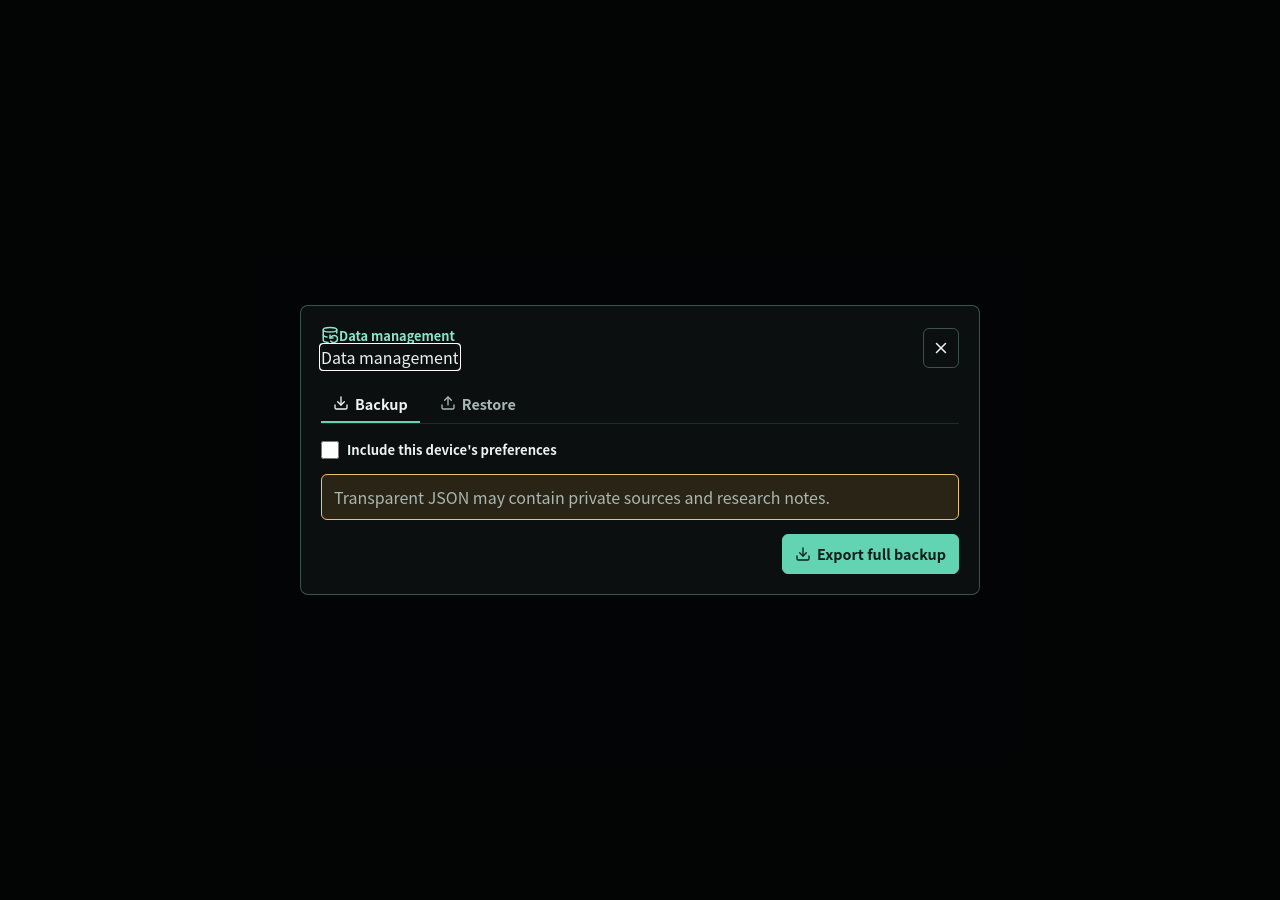
Test: DataManagementDialog interactions › uses a safe endpoint fallback when an export response is not JSON
Click the button "Export full backup": (870, 554) [782, 534, 959, 574]
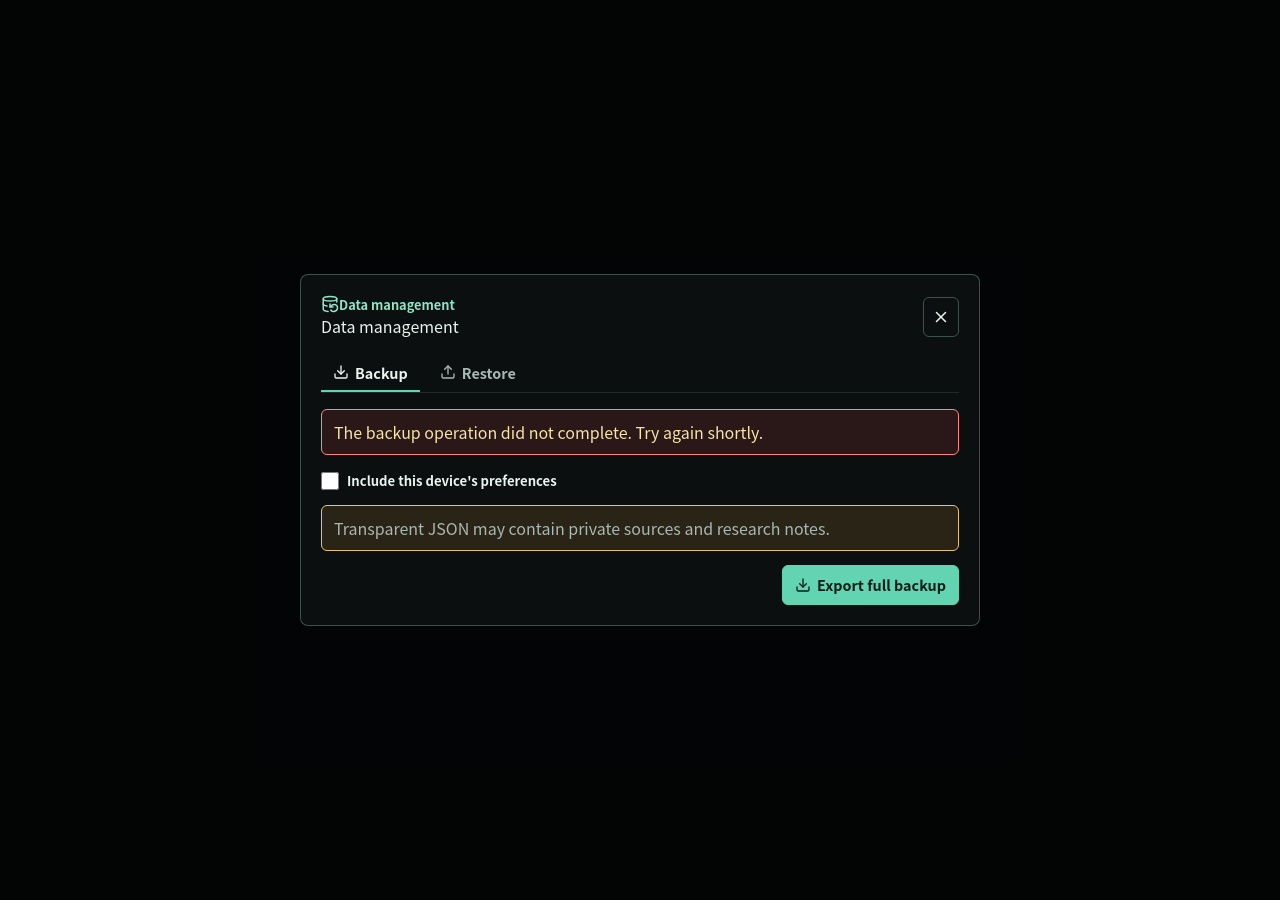
Now the text "The backup operation did not complete. Try again shortly." is shown, box [321, 409, 959, 455]
